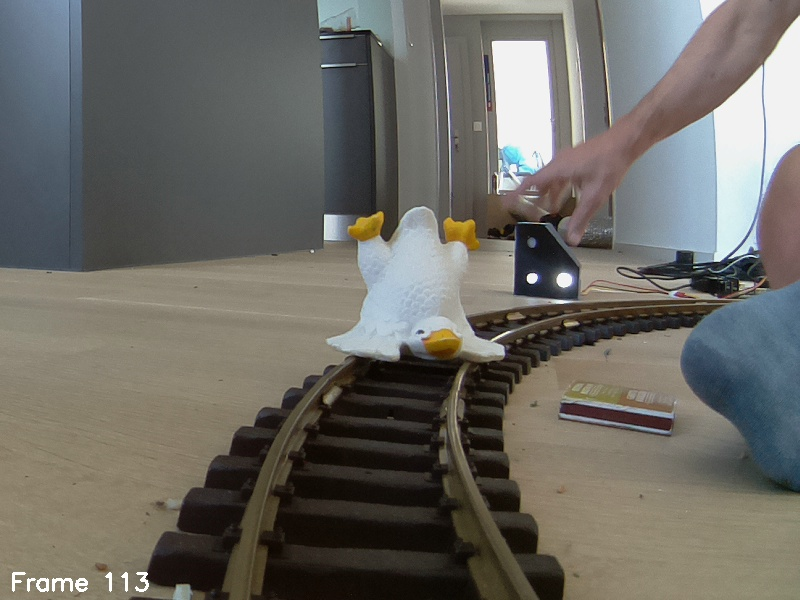Halt: (515, 222, 582, 305)
